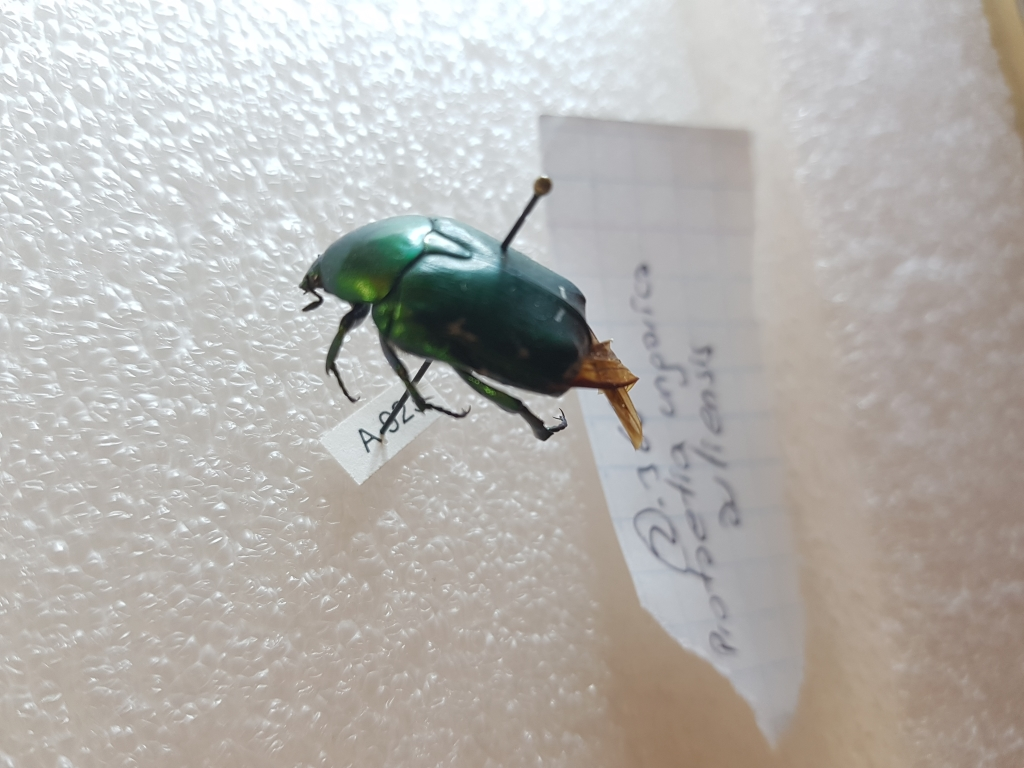Protaetia_ungarica_americana: (293, 203, 668, 446)
